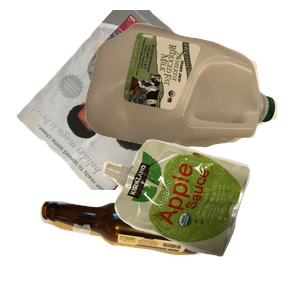glass: (37, 198, 236, 300)
paper: (14, 10, 229, 190)
plastic: (83, 21, 300, 162)
trash: (100, 137, 300, 300)
